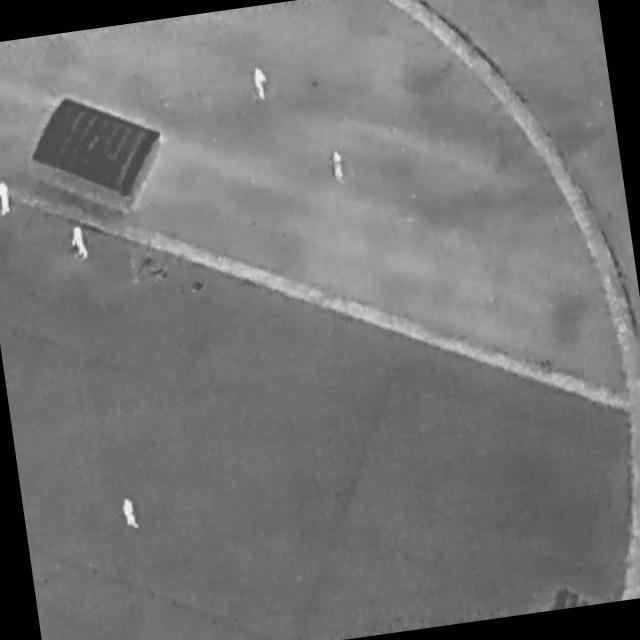person: (68, 224, 91, 265), (251, 65, 271, 103), (329, 147, 348, 183), (121, 498, 141, 532), (1, 180, 13, 217)
